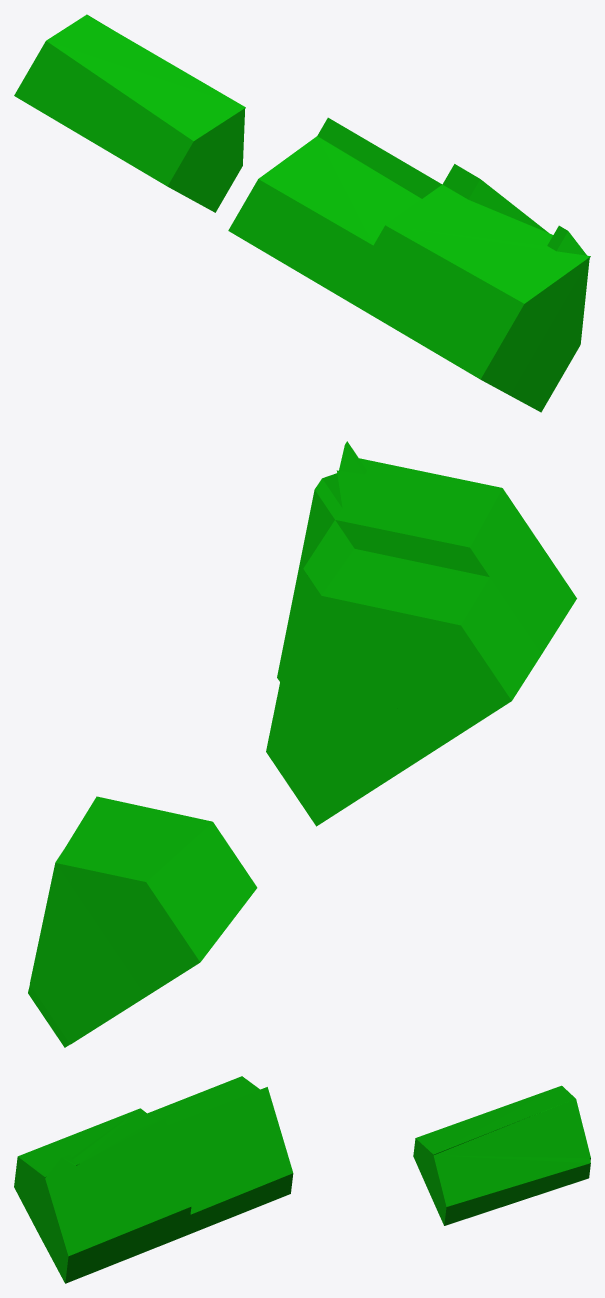
3 renders of one model, top to bottom at view 1: azimuth 30°, elevation 25°; view 2: azimuth 150°, elevation 25°; view 3: azimuth 270°, elevation 25°, orthographic. The views are drawn at different scales.
Parts seen in each view (by area): view 1: mesh; view 2: mesh; view 3: mesh.
Part boxes in pixels (<box>): mesh: <box>14,14,590,412</box>; mesh: <box>28,441,576,1047</box>; mesh: <box>14,1076,590,1283</box>.
Size of the model in its own units: 18.23 by 15.45 by 48.42.
